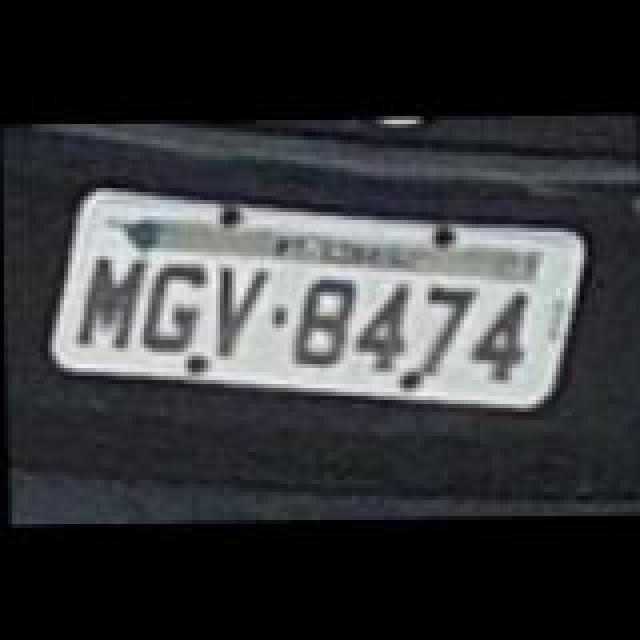4: (470, 290, 530, 382), (354, 282, 414, 370)
7: (408, 286, 472, 382)
8: (288, 280, 360, 368)
G: (140, 260, 212, 352)
M: (76, 256, 148, 352)
V: (212, 268, 276, 360)
